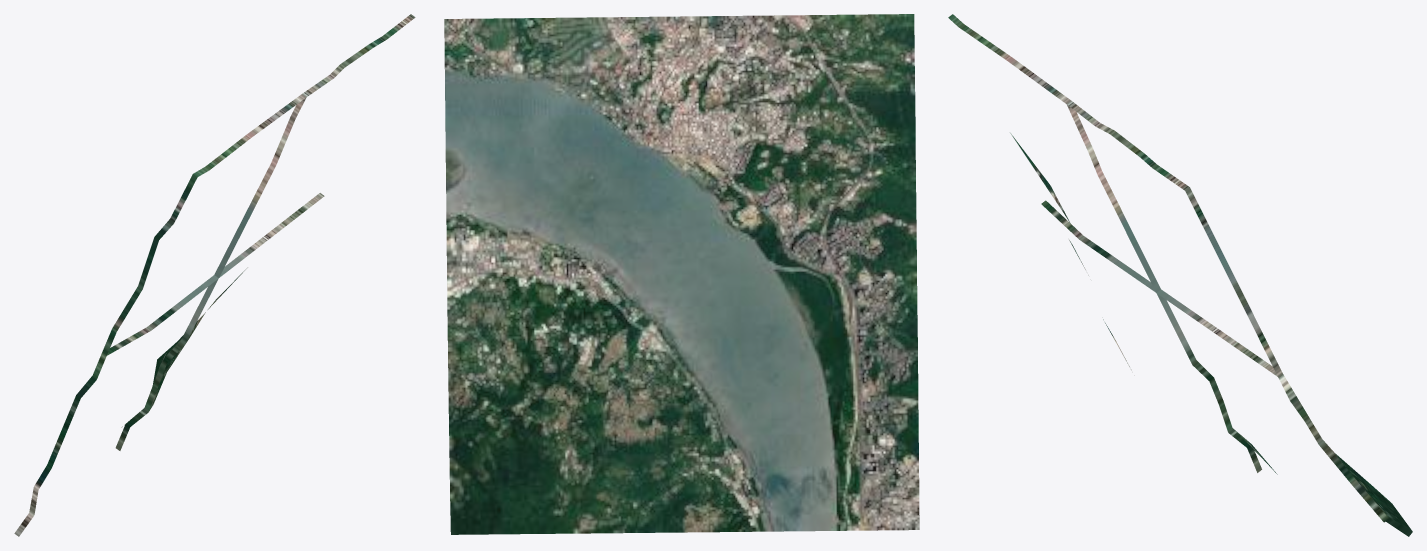
3 views of the same model, side by side, from view 1: azimuth 30°, elevation 25°; view 2: azimuth 150°, elevation 25°; view 3: azimuth 270°, elevation 25° (orthographic). The views are drawn at different scales.
Size of the model in its own units: 4916 by 4473 by 4421.
1 material, 1 textured.
